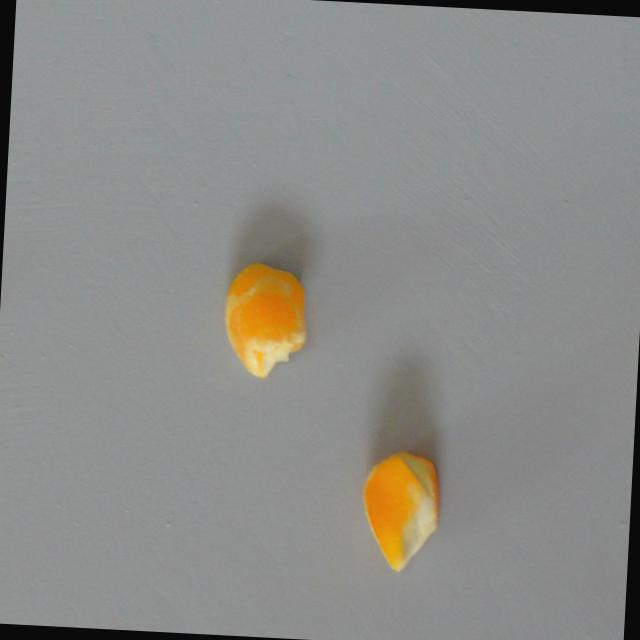pelicula: (202, 271, 330, 367), (343, 467, 466, 552)
